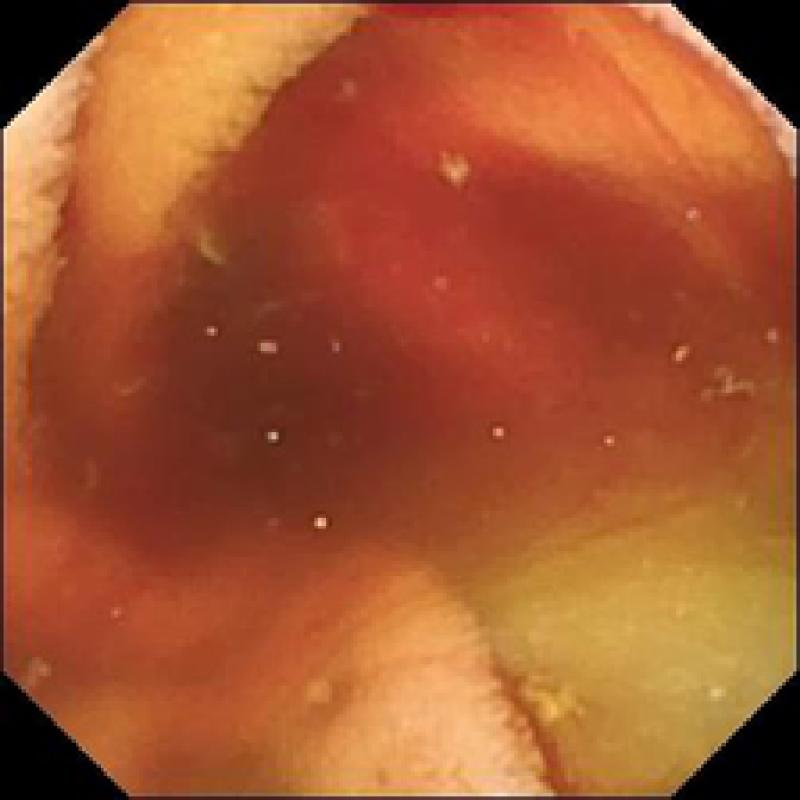bleeding: (18, 4, 800, 575)
